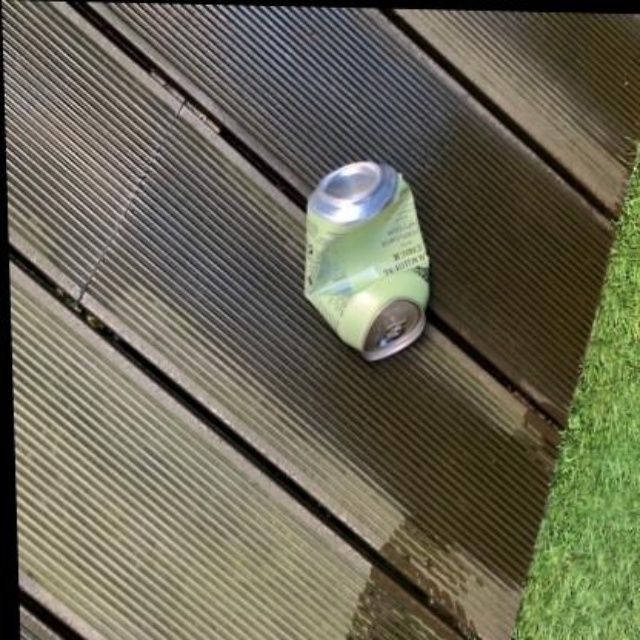trash: (305, 162, 428, 360)
